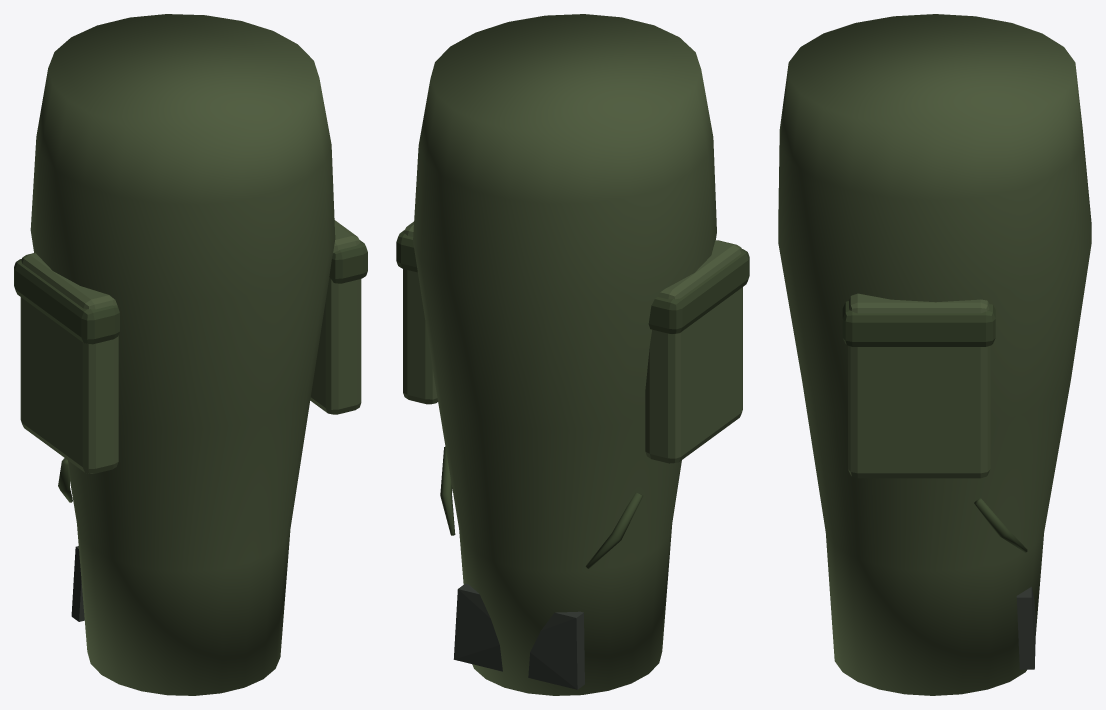
The model's file is CharLegUp.glb.
3 renders of one model, left to right at view 1: azimuth 30°, elevation 25°; view 2: azimuth 150°, elevation 25°; view 3: azimuth 270°, elevation 25°, orthographic.
Parts seen in each view (by area): view 1: CharLegUp; view 2: CharLegUp; view 3: CharLegUp.
Boxes of the visible parts, x1,y1,x2,y2 form: CharLegUp: [14, 14, 367, 695]; CharLegUp: [396, 14, 749, 695]; CharLegUp: [778, 14, 1091, 695].
Size of the model in its own units: 0.221 by 0.43 by 0.2089.
